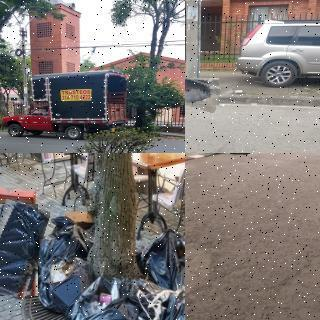Garbage: (38, 215, 90, 311), (66, 274, 163, 320), (0, 201, 44, 298), (140, 229, 185, 287), (185, 74, 220, 108), (173, 253, 185, 298)
